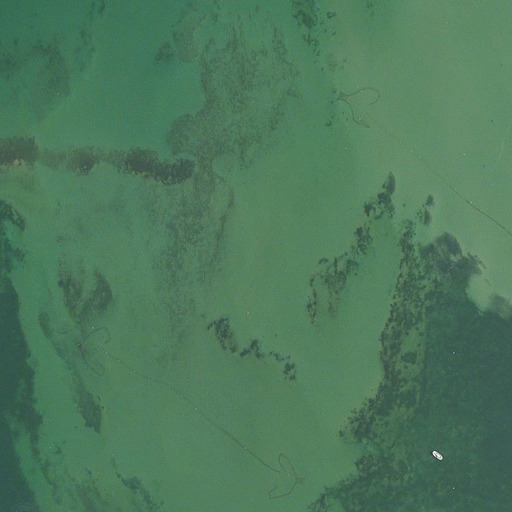ship: (431, 449, 443, 462)
